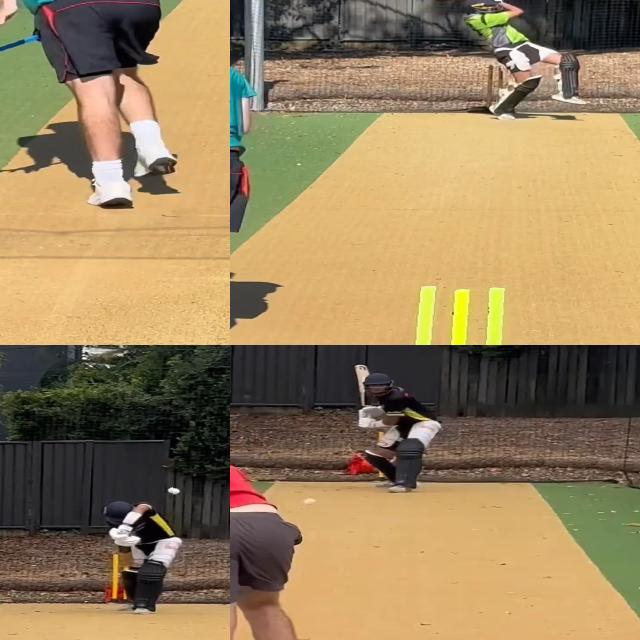Cricket ball: (301, 498, 317, 507), (167, 486, 181, 495)
Stumps: (400, 284, 519, 345)
